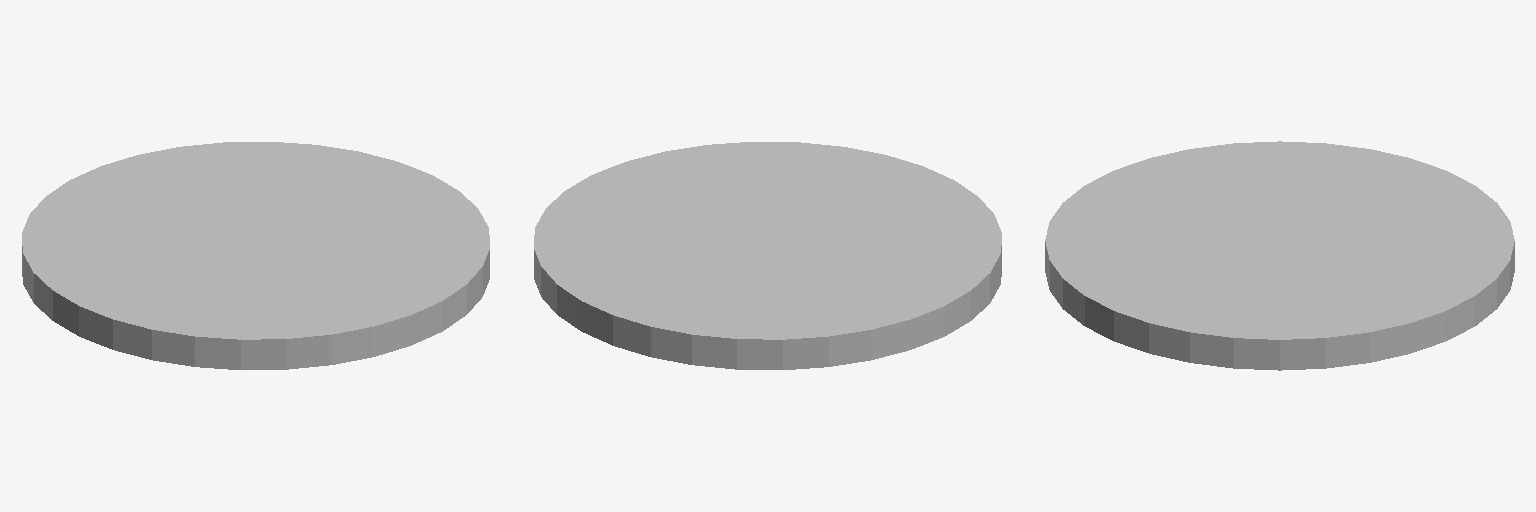
The model's file is drumsetV4_RideSymbal_Hitbox.obj.
3 views of the same model, side by side, from view 1: azimuth 30°, elevation 25°; view 2: azimuth 150°, elevation 25°; view 3: azimuth 270°, elevation 25° (orthographic).
Parts seen in each view (by area): view 1: drumsetV4_RideSymbal_Hitbox_Cylinder.005; view 2: drumsetV4_RideSymbal_Hitbox_Cylinder.005; view 3: drumsetV4_RideSymbal_Hitbox_Cylinder.005.
Part boxes in pixels (x1,y1,x2,y2): drumsetV4_RideSymbal_Hitbox_Cylinder.005: (22,142,489,369); drumsetV4_RideSymbal_Hitbox_Cylinder.005: (534,142,1001,369); drumsetV4_RideSymbal_Hitbox_Cylinder.005: (1045,141,1514,370).
Bounding box in the file's own units: 1.65 × 0.1182 × 1.65.